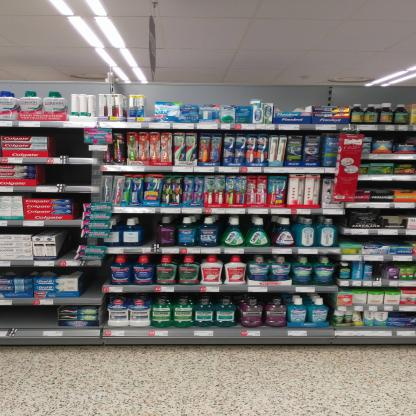Void: (1, 306, 58, 326), (42, 166, 87, 186), (50, 130, 81, 156), (83, 268, 102, 298), (360, 181, 415, 190), (58, 226, 72, 260), (143, 216, 156, 247), (28, 193, 89, 199), (276, 104, 310, 113)
